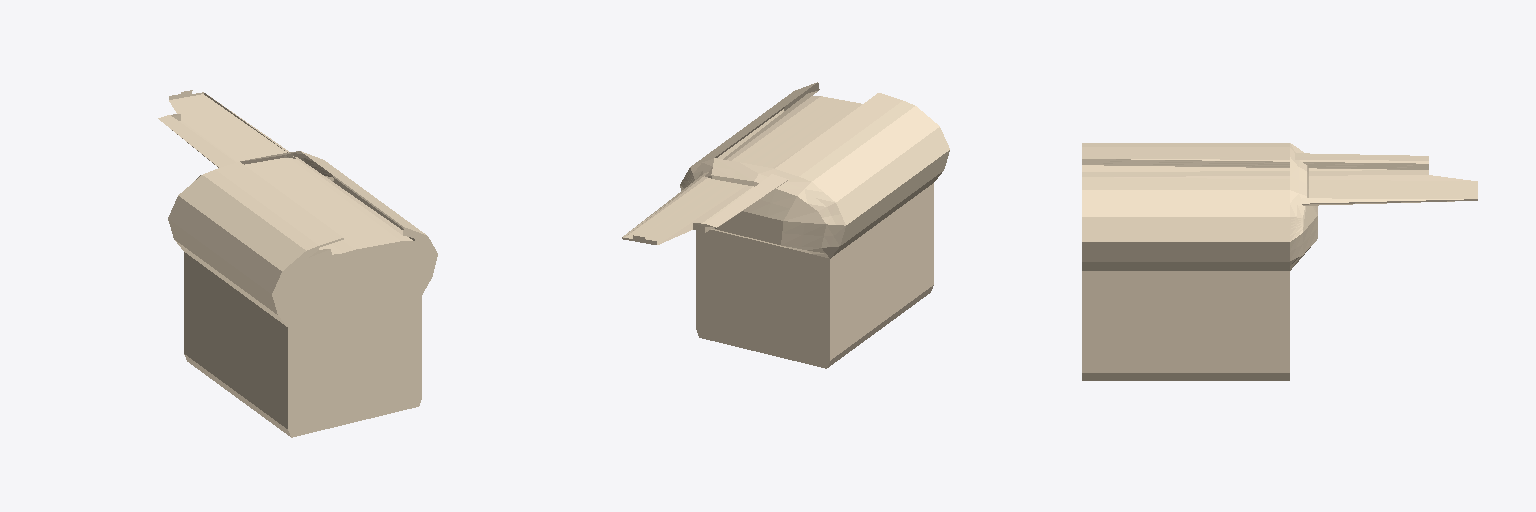
The model's file is LoafOfBread (4).obj.
3 views of the same model, side by side, from view 1: azimuth 30°, elevation 25°; view 2: azimuth 150°, elevation 25°; view 3: azimuth 270°, elevation 25° (orthographic).
Visible parts, largest first — view 1: LoafOfBread (4); view 2: LoafOfBread (4); view 3: LoafOfBread (4).
Part boxes in pixels (x1,y1,x2,y2): LoafOfBread (4): (158,90,437,437); LoafOfBread (4): (622,82,949,368); LoafOfBread (4): (1082,143,1477,380).
Bounding box in the file's own units: 14.68 × 15.8 × 30.32.